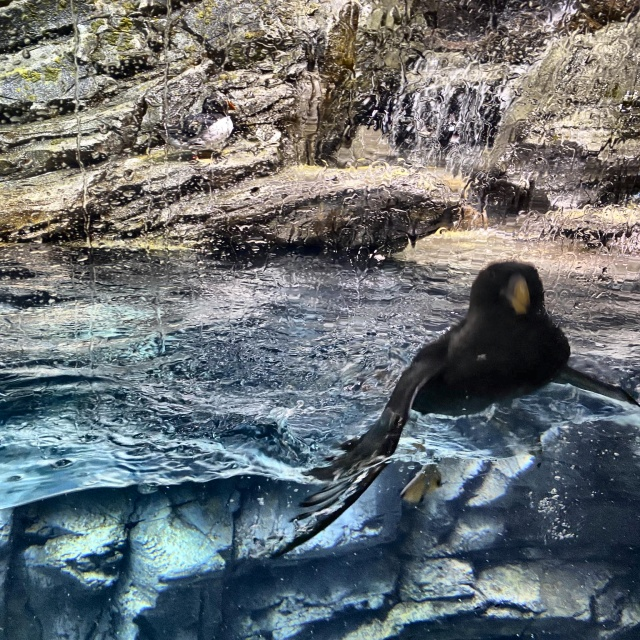puffin: (286, 259, 639, 541), (152, 91, 241, 164)
